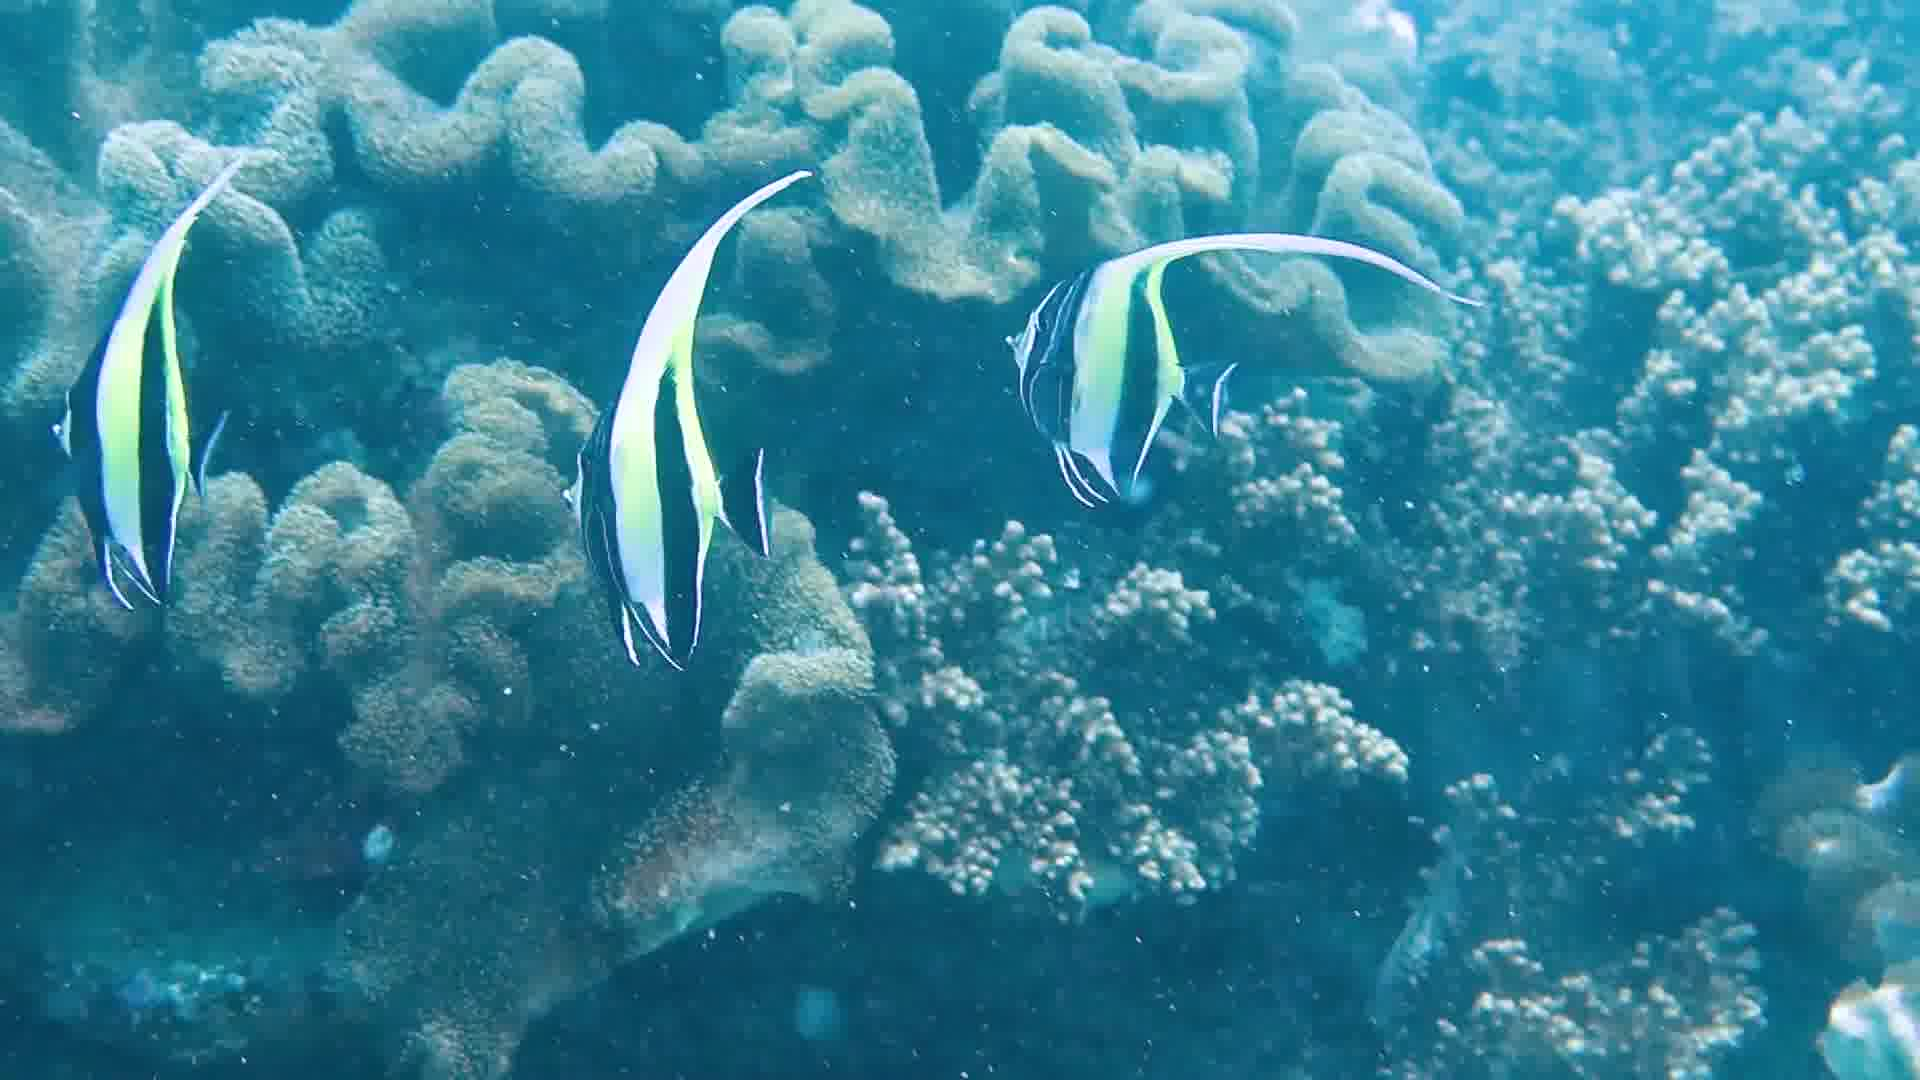Zanclus cornutus: (36, 247, 284, 618), (546, 301, 794, 671), (993, 175, 1234, 529)
